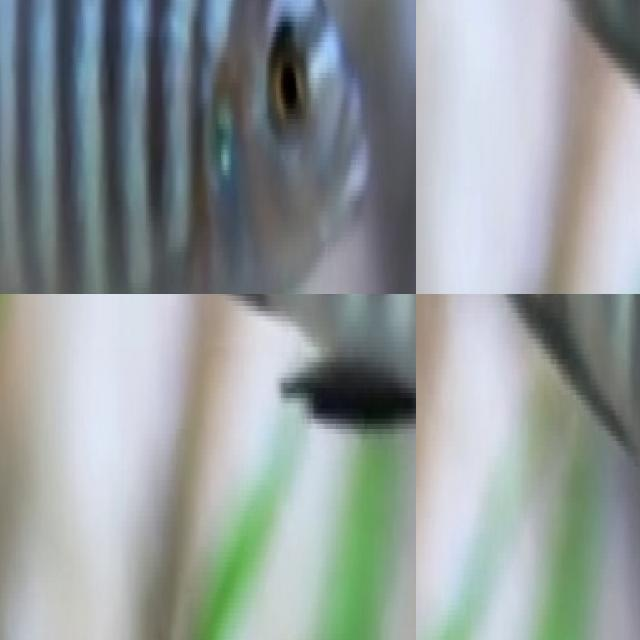fish: (0, 0, 416, 294), (69, 294, 416, 557), (416, 294, 640, 635)
